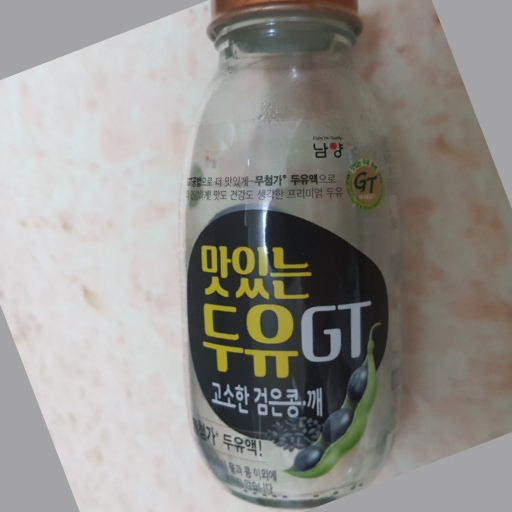Glass_4: (178, 1, 402, 512)
